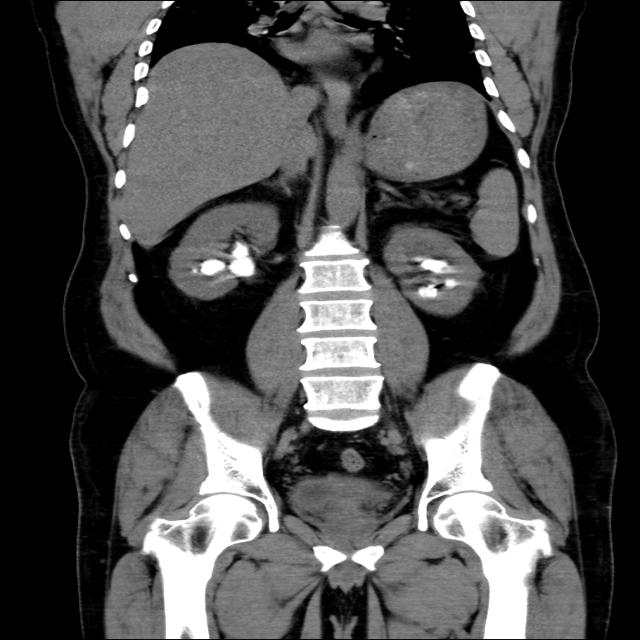kidneystone: (229, 241, 256, 276), (201, 259, 225, 275), (421, 259, 449, 272), (418, 285, 437, 297), (449, 278, 455, 288)
